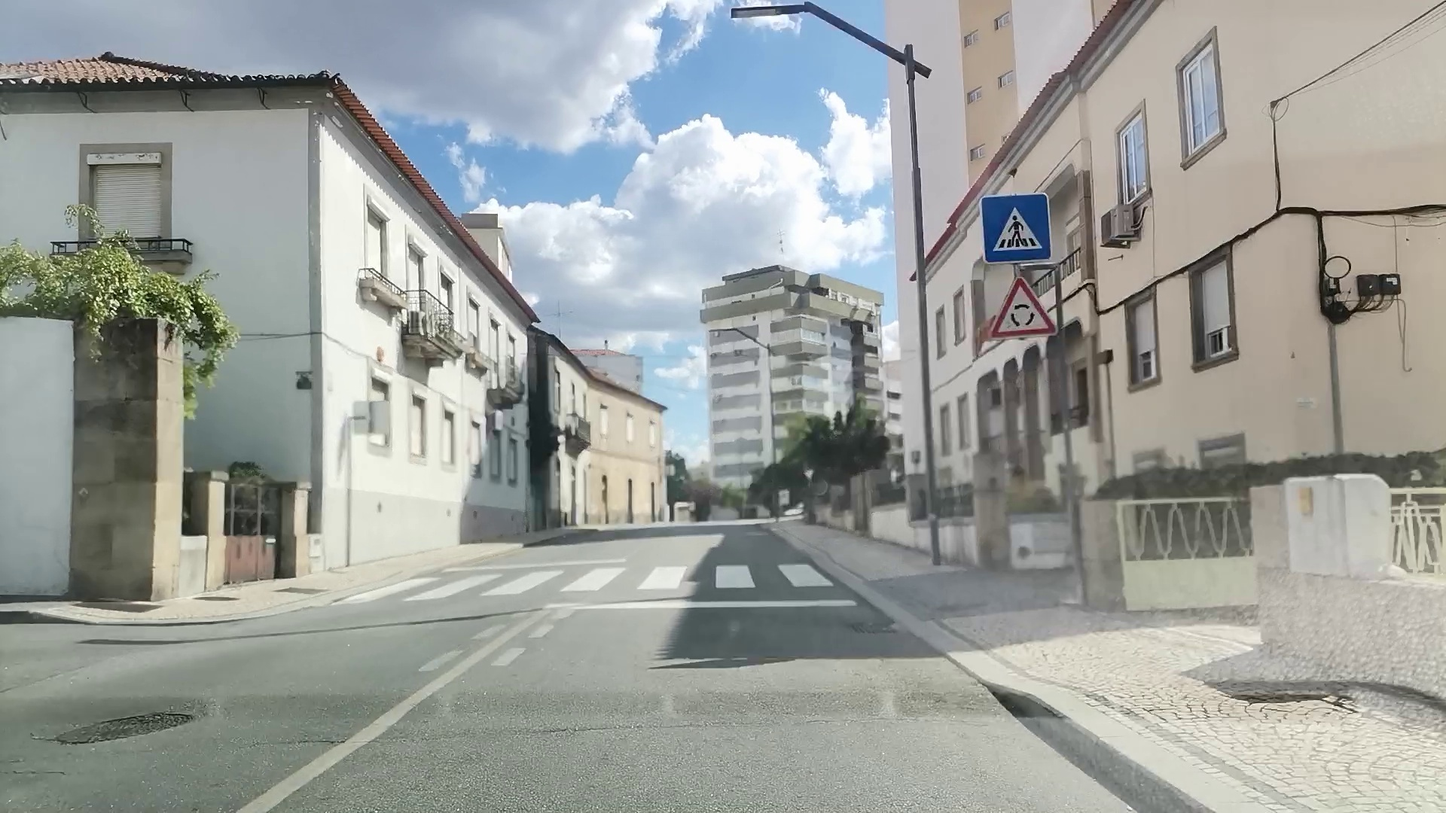Stairs: (328, 562, 837, 606)
